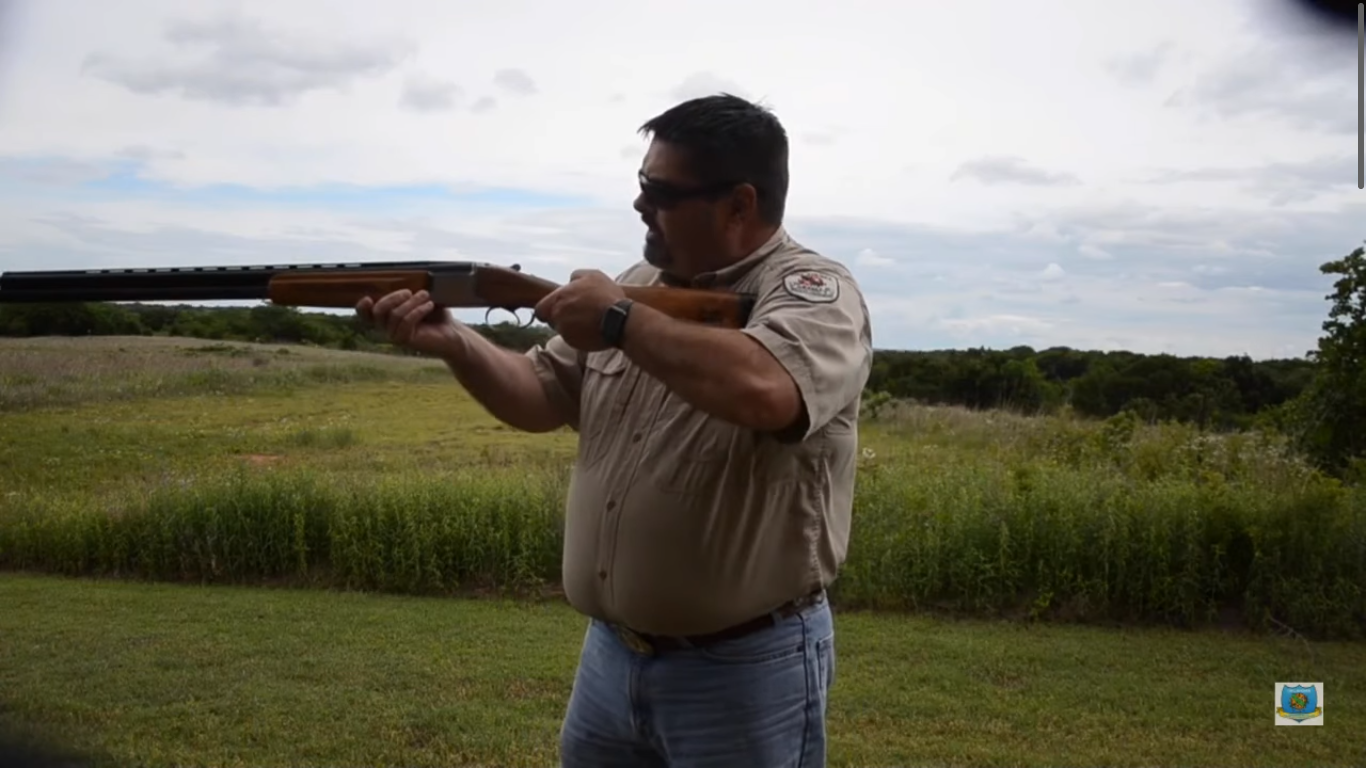gun: (0, 258, 754, 349)
p_w_gun: (0, 89, 882, 768)
